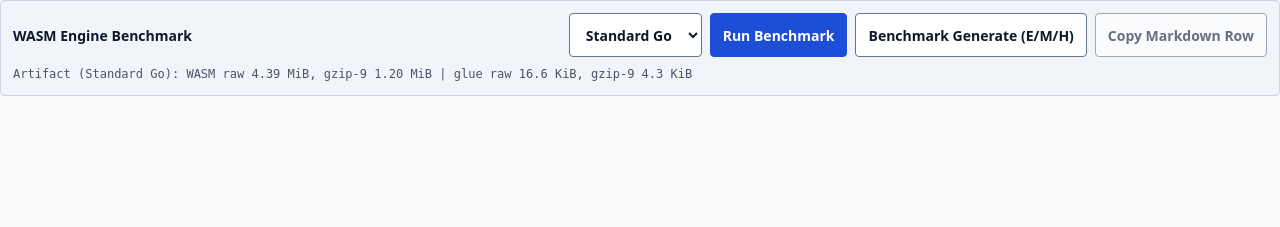
WasmBenchmarkCard › runs the generatePuzzle (E/M/H) benchmark action and displays verified results
The width and height of the screenshot is (1280, 227).
Step 1. Click the button "Benchmark Generate (E/M/H)" → (971, 35), box x1=856 y1=13 x2=1087 y2=57
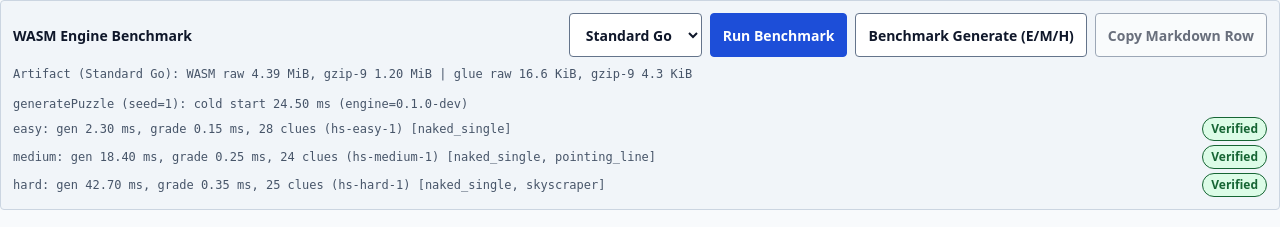
Check: the text "hs-hard-1" is shown, box x1=338 y1=178 x2=403 y2=192
Check: the text "Verified" is shown 3 times, box x1=1202 y1=117 x2=1267 y2=141; x1=1202 y1=145 x2=1267 y2=169; x1=1202 y1=173 x2=1267 y2=197
